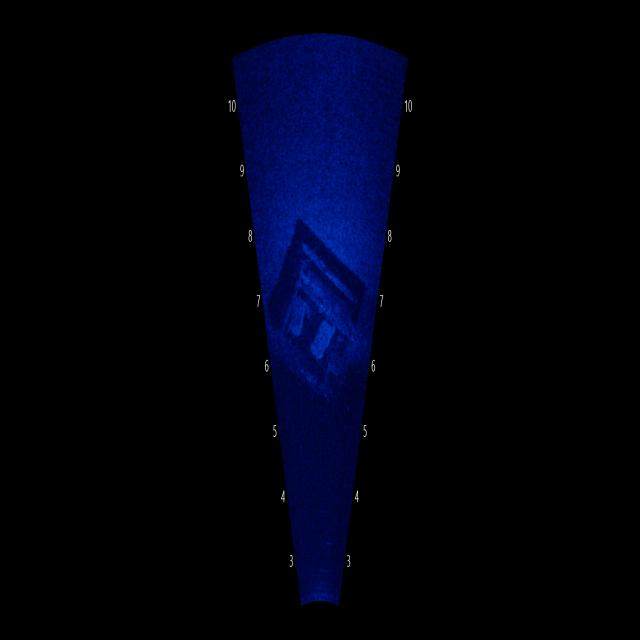square: (263, 222, 371, 403)
